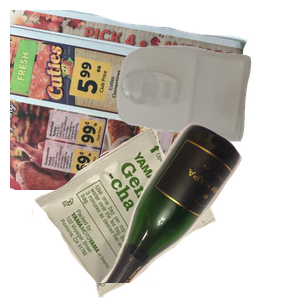glass: (87, 120, 300, 300)
paper: (10, 10, 250, 190)
plastic: (115, 43, 300, 177)
trash: (29, 124, 238, 300)
